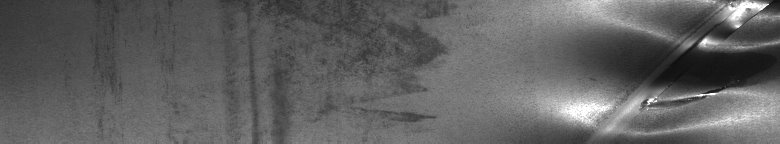ke: (580, 4, 776, 136)
